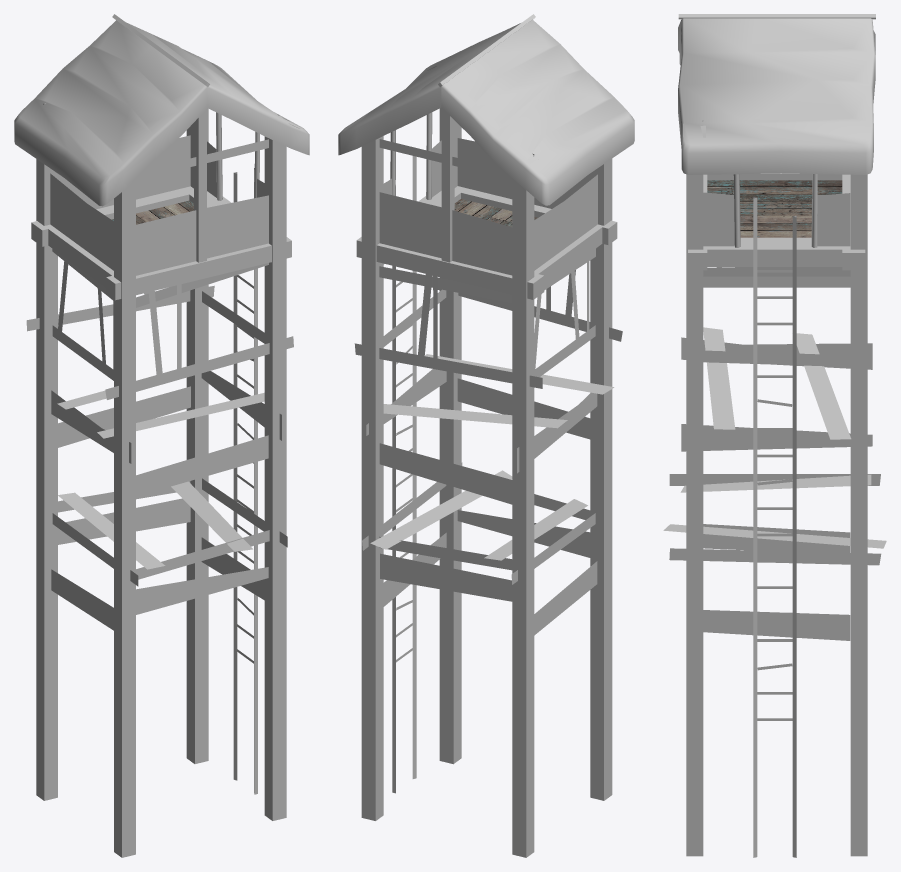
Rendered from Tower1_LOD2.fbx.
3 views of the same model, side by side, from view 1: azimuth 30°, elevation 25°; view 2: azimuth 150°, elevation 25°; view 3: azimuth 270°, elevation 25° (orthographic). The views are drawn at different scales.
Parts seen in each view (by area): view 1: polySurface2792; view 2: polySurface2792; view 3: polySurface2792.
Boxes of the visible parts, x1,y1,x2,y2 form: polySurface2792: (14,14,309,857); polySurface2792: (338,14,634,857); polySurface2792: (663,14,886,857).
Bounding box in the file's own units: 4.52 × 15.61 × 3.95.
